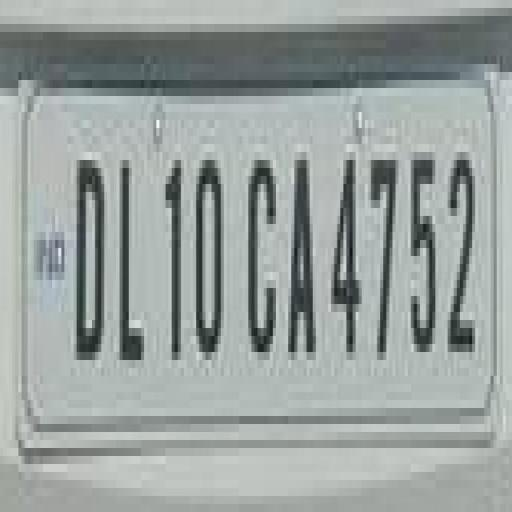number plate: (15, 40, 512, 432)
